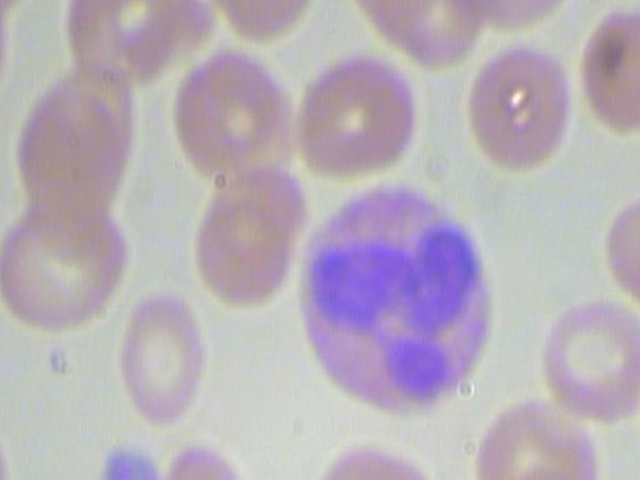Platelets: (87, 442, 171, 480)
RBC: (0, 192, 138, 338), (284, 47, 424, 184), (167, 42, 295, 189), (465, 38, 583, 173), (105, 286, 212, 430), (539, 286, 640, 426), (298, 428, 446, 480), (598, 188, 640, 337)
WBC: (293, 171, 505, 420)
